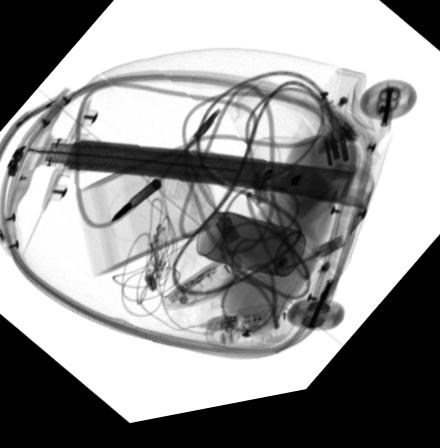Bullet: (108, 183, 162, 229)
